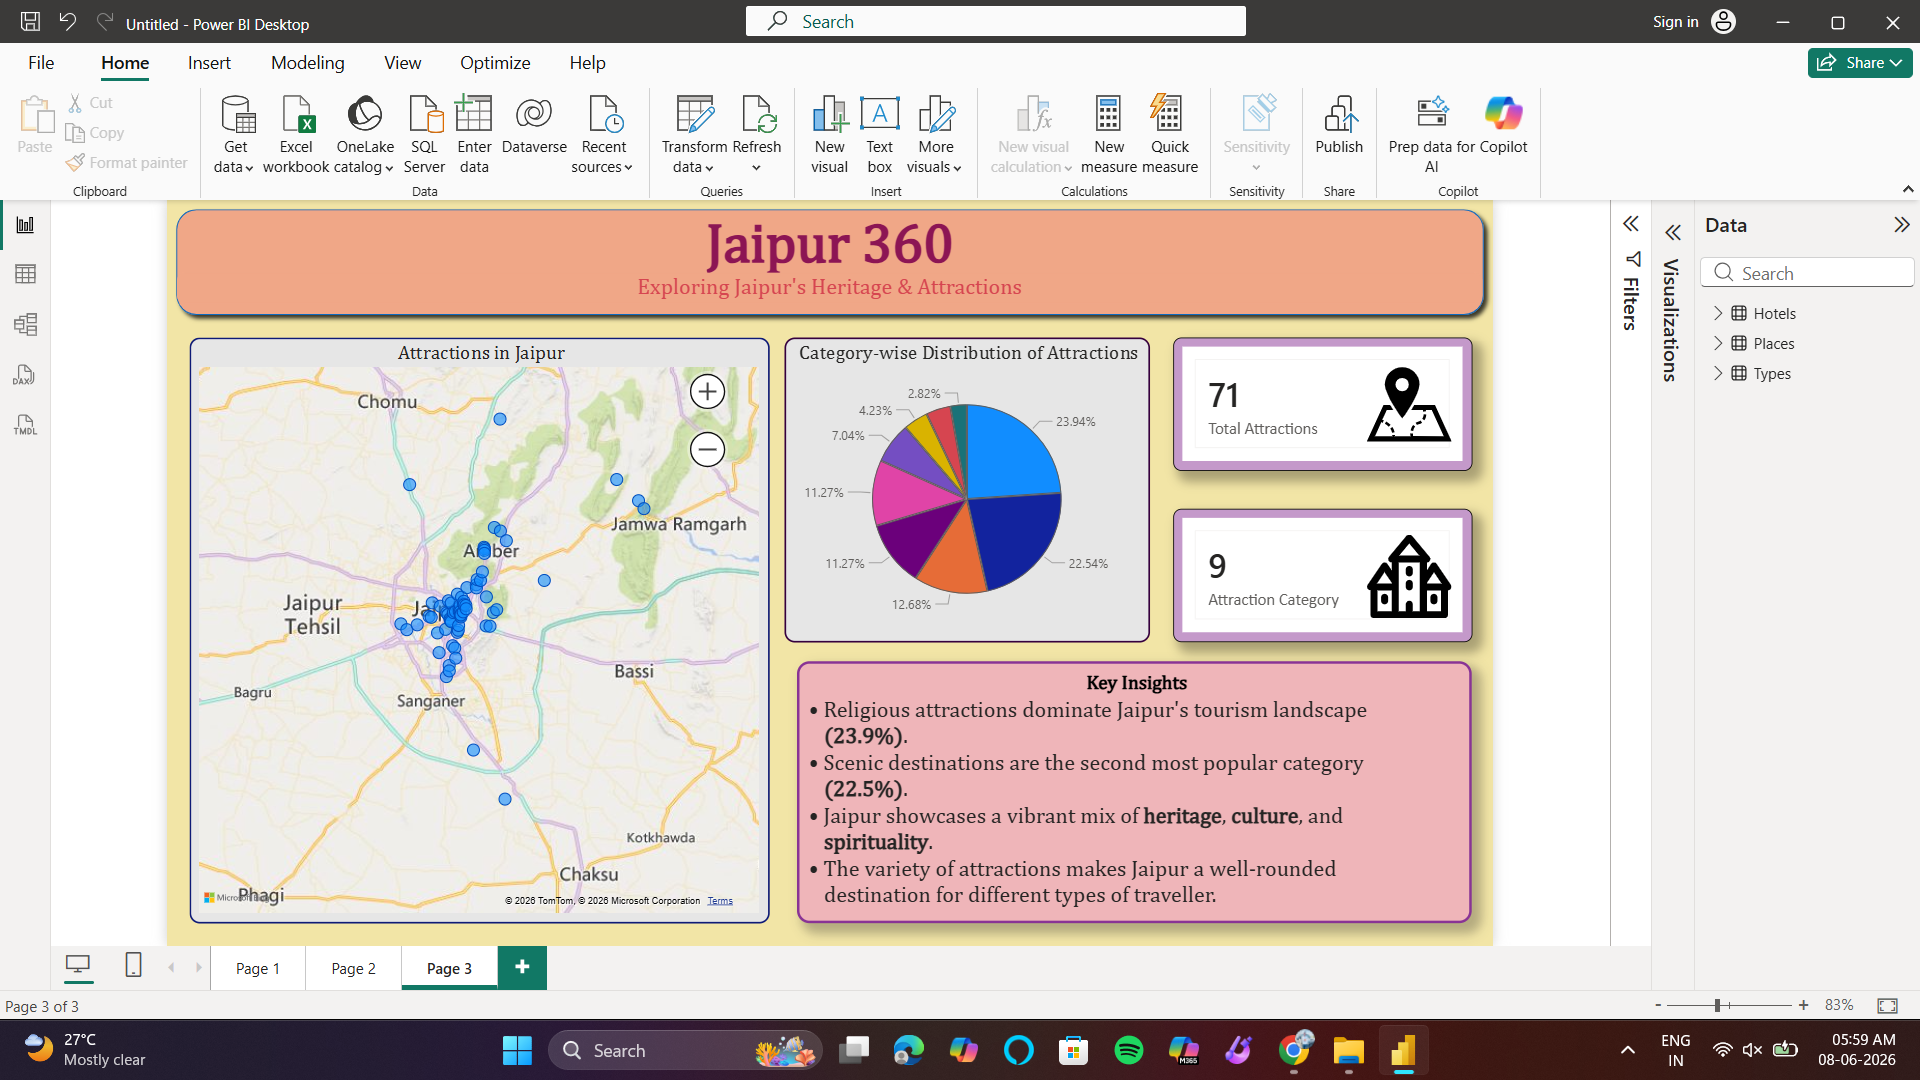

This screenshot's page, from the dashboard's own definition file:
{"tool":"powerbi","page":{"name":"Page 3","canvas":[1280,720],"ordinal":2},"visuals":[{"type":"shape","box":[0,0,1280,120],"z":0},{"type":"shape","box":[10,70,1260,30],"z":1000},{"type":"map","title":"Attractions in Jaipur","fields":{"X":["Places.LONGITUDE"],"Y":["Places.LATITUDE"]},"box":[21.4,132.9,560,565.7],"z":2000},{"type":"cardVisual","fields":{"Data":["CountNonNull(Types.POIs)"]},"box":[971.4,132.9,288.6,128.6],"z":2500},{"type":"pieChart","title":"Category-wise Distribution of Attractions","fields":{"Category":["Types.PRIORITY_1"],"Y":["CountNonNull(Types.POIs)"]},"box":[595.7,132.9,352.9,294.3],"z":3000},{"type":"cardVisual","fields":{"Data":["Count(Types.PRIORITY_1)"]},"box":[971.4,298.6,288.6,128.6],"z":4000},{"type":"textbox","box":[608.6,445.7,651.4,252.9],"z":5000},{"type":"image","box":[1158.6,152.9,81.4,88.6],"z":7501},{"type":"image","box":[1158.6,320,81.4,87.1],"z":8001}]}

Visuals, with their boxes on the page's 1280x720 design canvas (x1, y1, x2, y2). These are canvas units, not pixel positions in the 1920x1080 screenshot, which may show the page scaled, cropped or inside an application window:
shape: <box>0,0,1280,120</box>
shape: <box>10,70,1270,100</box>
"Attractions in Jaipur" map: <box>21,133,581,699</box>
cardVisual - CountNonNull(Types.POIs): <box>971,133,1260,262</box>
"Category-wise Distribution of Attractions" pieChart: <box>596,133,949,427</box>
cardVisual - Count(Types.PRIORITY_1): <box>971,299,1260,427</box>
textbox: <box>609,446,1260,699</box>
image: <box>1159,153,1240,242</box>
image: <box>1159,320,1240,407</box>
